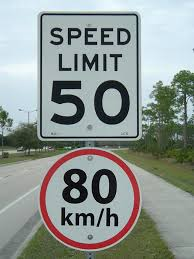Speed_limit_80km: (39, 148, 141, 249)
